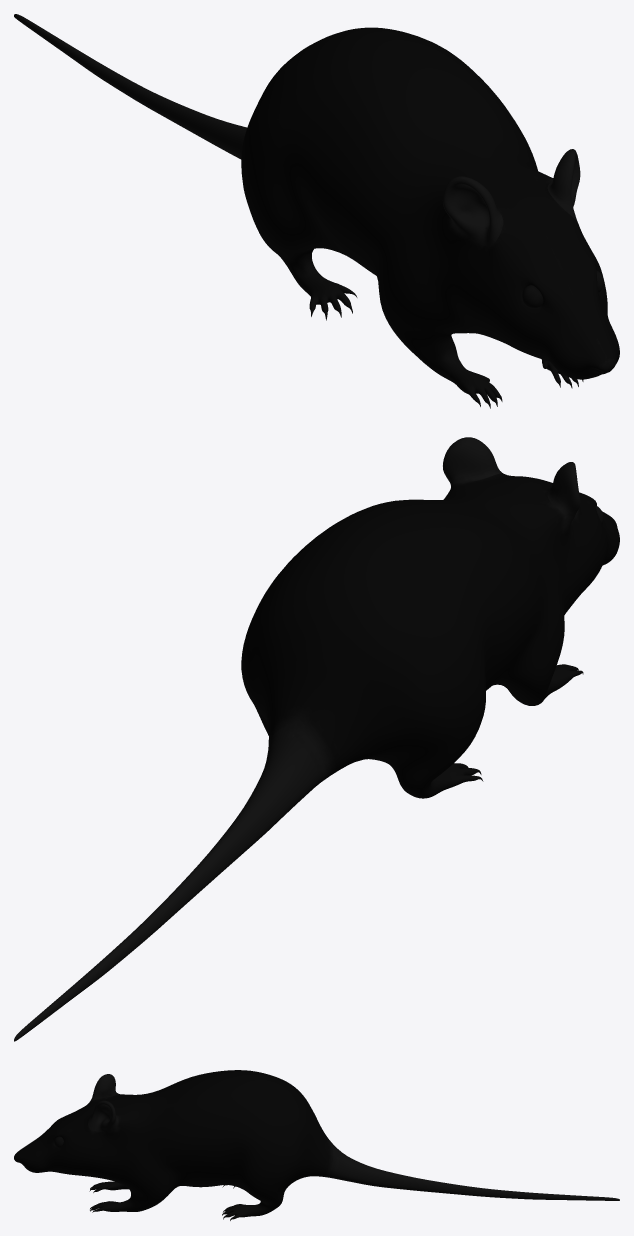
File: ratte.glb
3 views of the same model, one above another, from view 1: azimuth 30°, elevation 25°; view 2: azimuth 150°, elevation 25°; view 3: azimuth 270°, elevation 25° (orthographic). The views are drawn at different scales.
Visible parts, largest first — view 1: street_rat; view 2: street_rat; view 3: street_rat.
Part boxes in pixels (box(x1,y1,x2,y2)): street_rat: box(14, 14, 619, 408); street_rat: box(14, 437, 619, 1041); street_rat: box(14, 1070, 619, 1220).
Bounding box in the file's own units: 0.032 × 0.0339 × 0.1483.
1 material, 1 textured.
